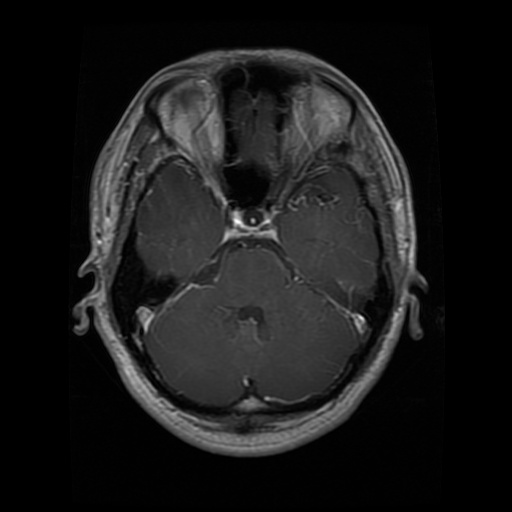glioma: (286, 183, 337, 208)
